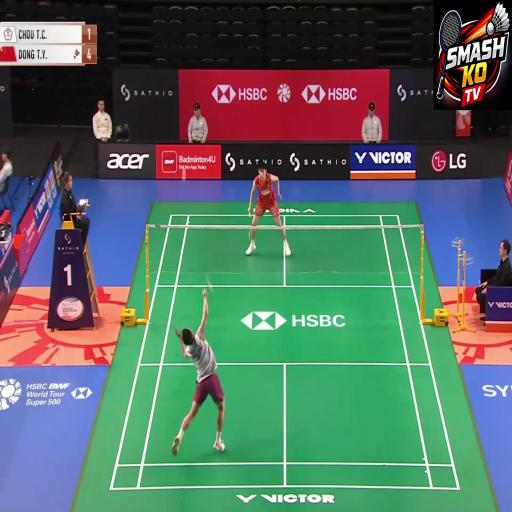player: (172, 306, 226, 463), (242, 148, 287, 278)
